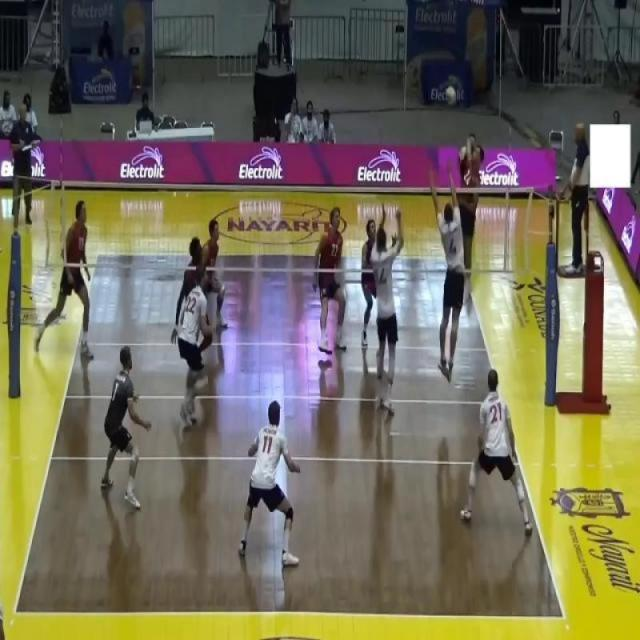volleyball: (446, 85, 457, 106)
